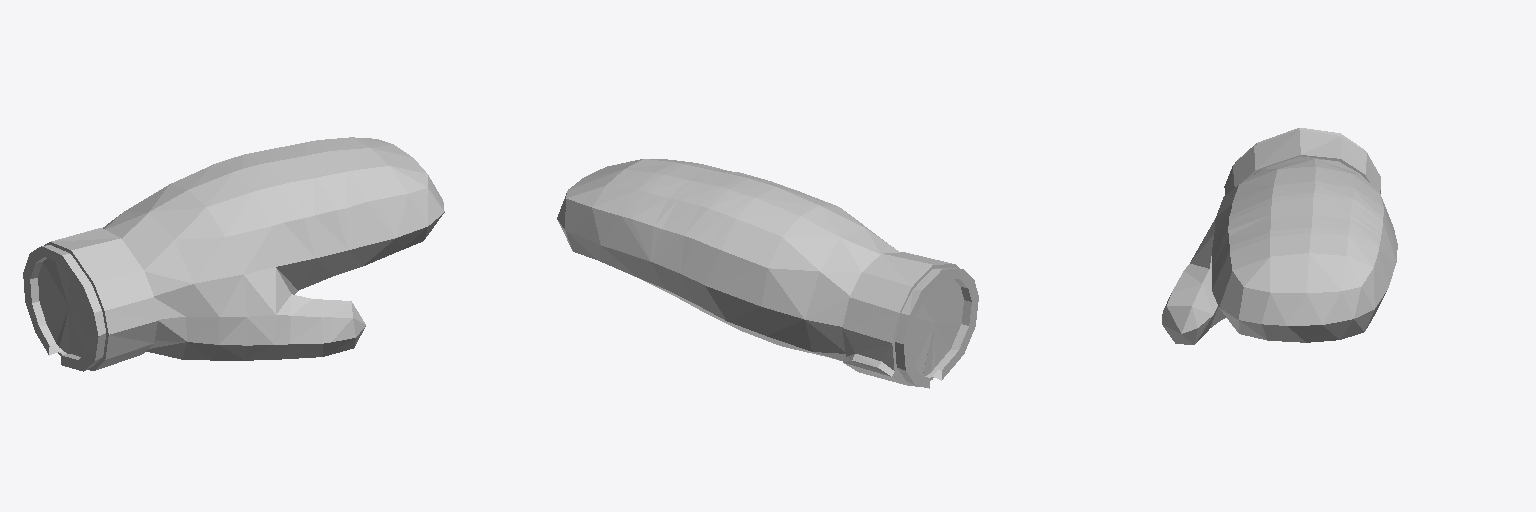
File: MacmeshLeftHand_leftHand.obj
3 renders of one model, left to right at view 1: azimuth 30°, elevation 25°; view 2: azimuth 150°, elevation 25°; view 3: azimuth 270°, elevation 25°, orthographic.
Visible parts, largest first — view 1: node_Mesh_165_mesh_mesh0; view 2: node_Mesh_165_mesh_mesh0; view 3: node_Mesh_165_mesh_mesh0.
Boxes of the visible parts, x1=… form: node_Mesh_165_mesh_mesh0: x1=23, y1=137, x2=444, y2=371; node_Mesh_165_mesh_mesh0: x1=557, y1=159, x2=978, y2=388; node_Mesh_165_mesh_mesh0: x1=1162, y1=128, x2=1397, y2=344.
Size of the model in its own units: 0.6599 by 0.2533 by 0.3661.